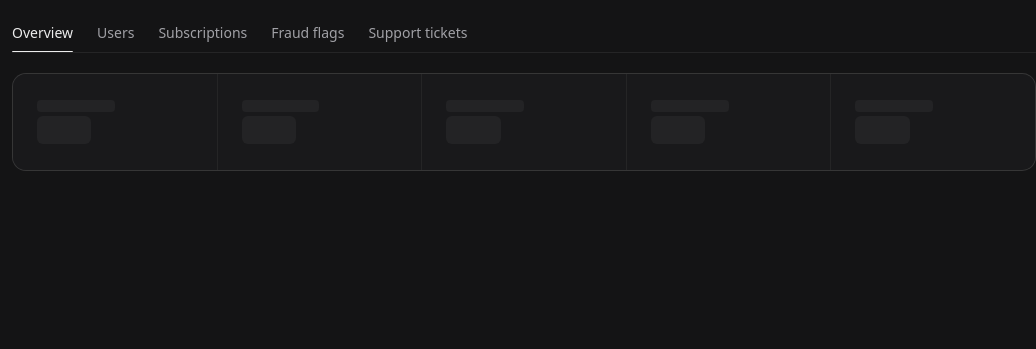
Scenario: AdminClient › says why an action was refused when it can, and that it failed otherwise
Click the button "Subscriptions" at (203, 32), box 158,12 -> 247,52
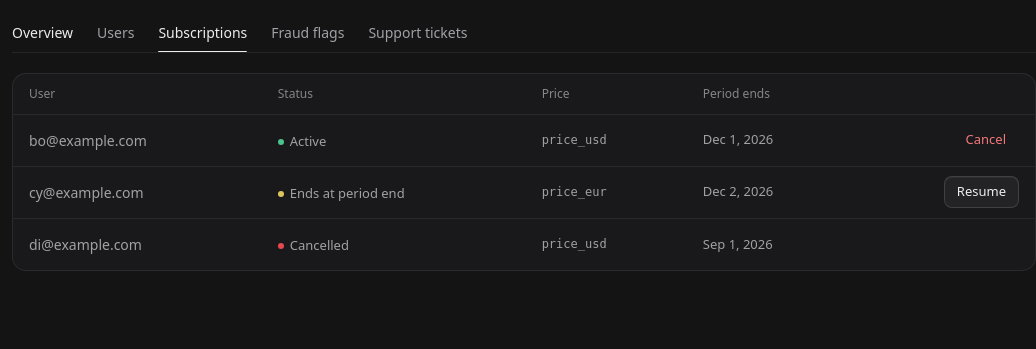
Click the button "Cancel" at (986, 140), box 952,124 -> 1019,156
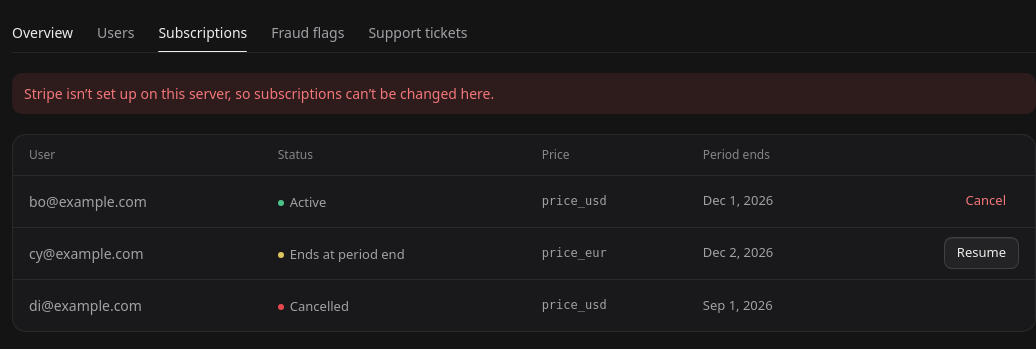
Expected: the message reads "Stripe isn’t set up on this server, so subscriptions can’t be changed here.", 24,84 -> 494,103
Click the button "Cancel" at (986, 201), box 952,185 -> 1019,217
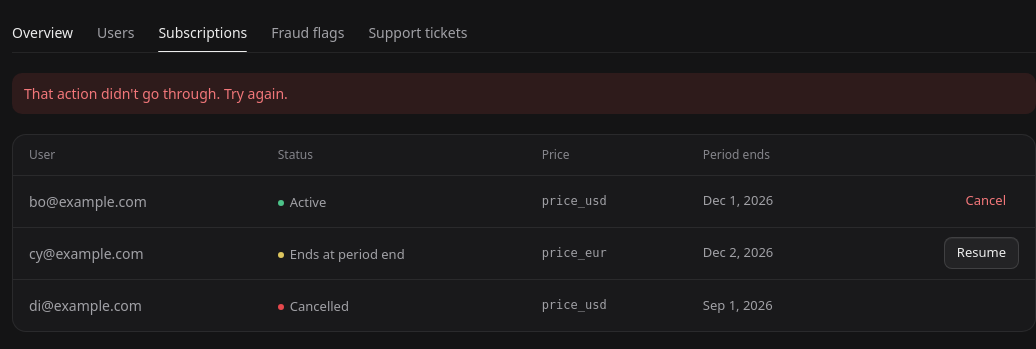
Expected: the message reads "That action didn't go through. Try again.", 24,84 -> 288,103
